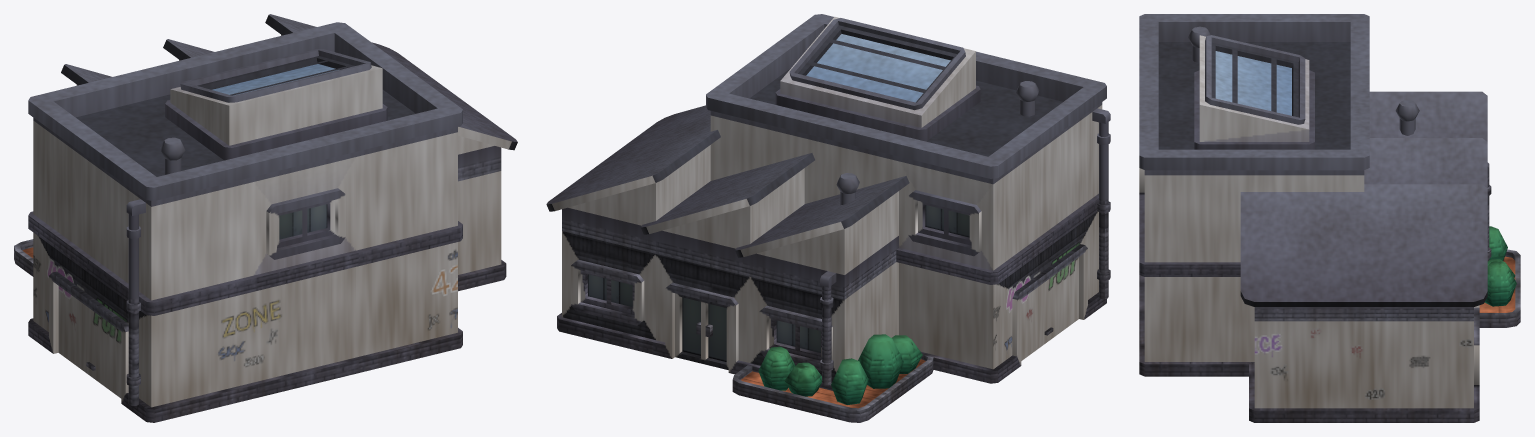
File: building-t-white-scuffed.glb
3 views of the same model, side by side, from view 1: azimuth 30°, elevation 25°; view 2: azimuth 150°, elevation 25°; view 3: azimuth 270°, elevation 25° (orthographic). The views are drawn at different scales.
Parts seen in each view (by area): view 1: building-t; view 2: building-t; view 3: building-t.
Boxes of the visible parts, x1,y1,x2,y2 form: building-t: (14,14,517,422); building-t: (546,14,1110,422); building-t: (1139,14,1520,422).
Size of the model in its own units: 1.72 by 1.01 by 1.39.
Materials: 1 (1 with a texture image).
